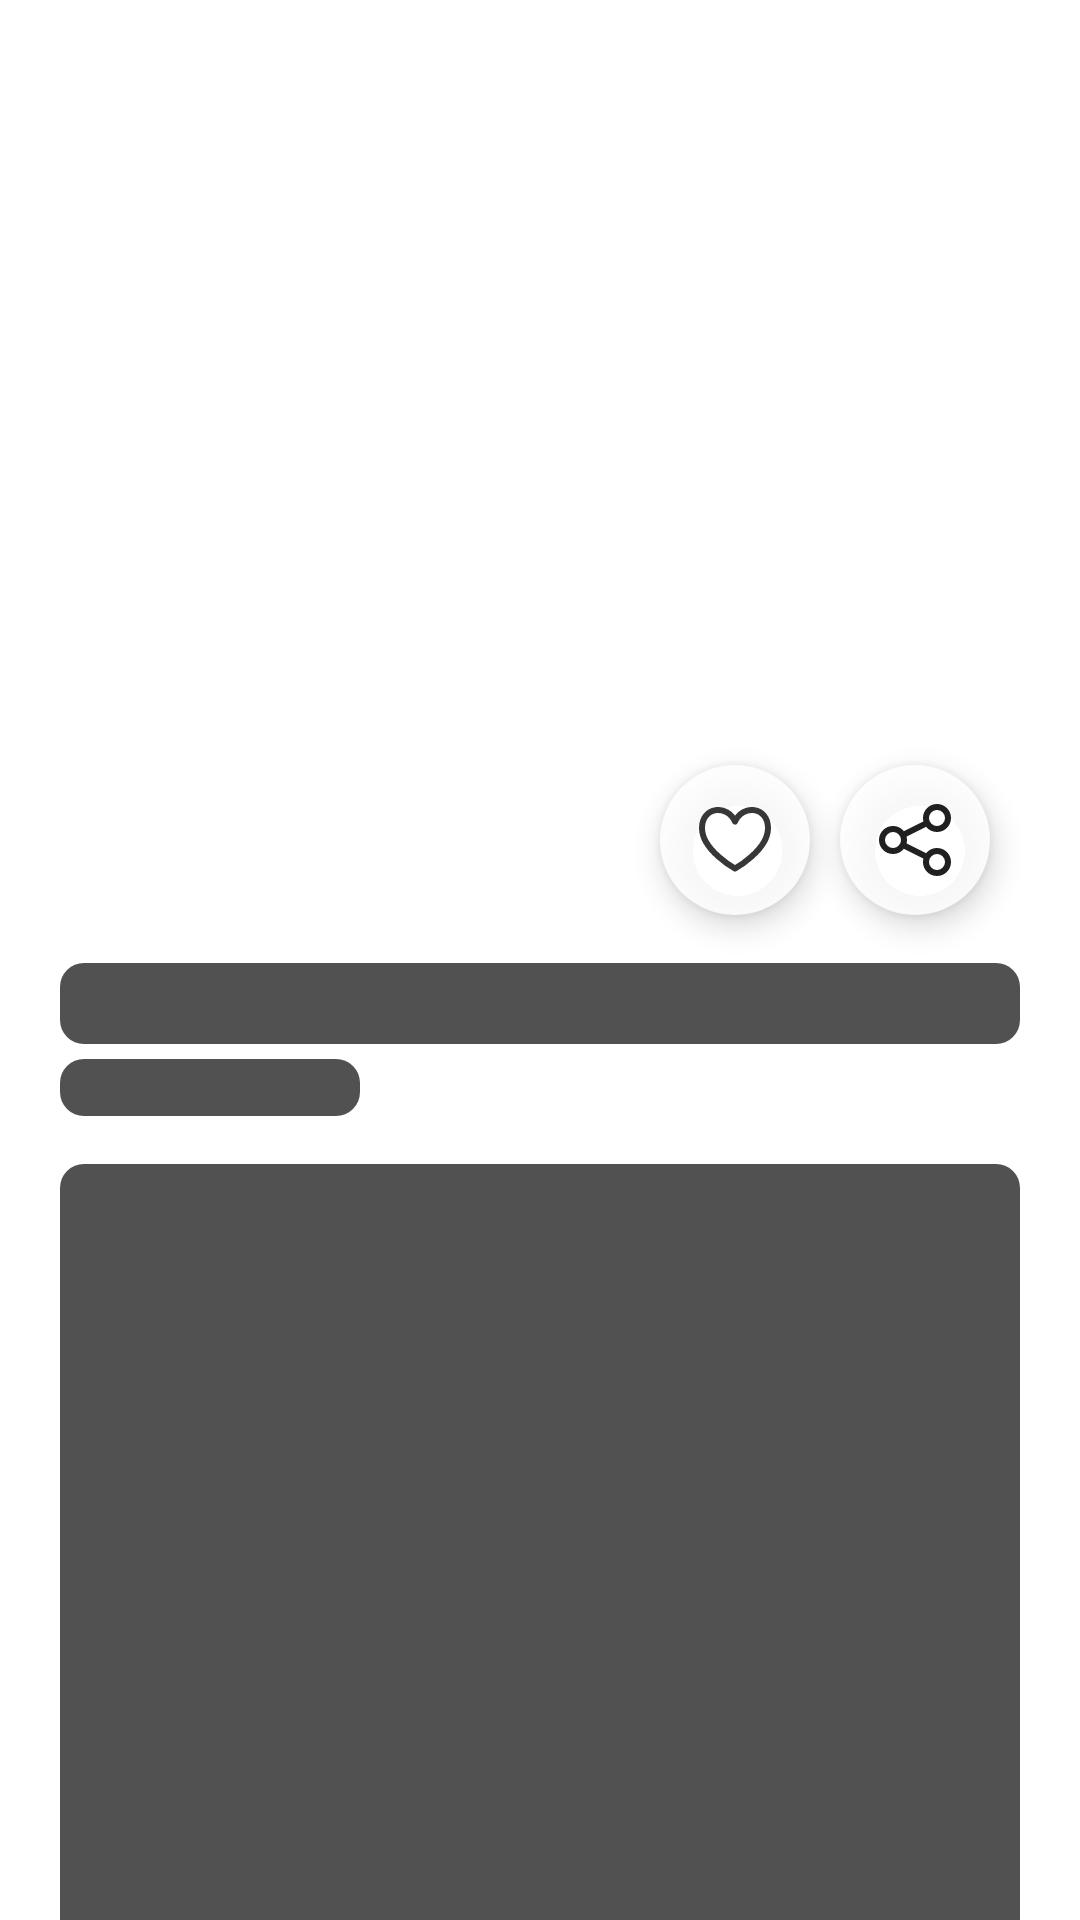

Icon click points for this 1080x1920 phone screenshot, format (x=x, y=y):
heart: (x=738, y=861)
share: (x=922, y=859)
